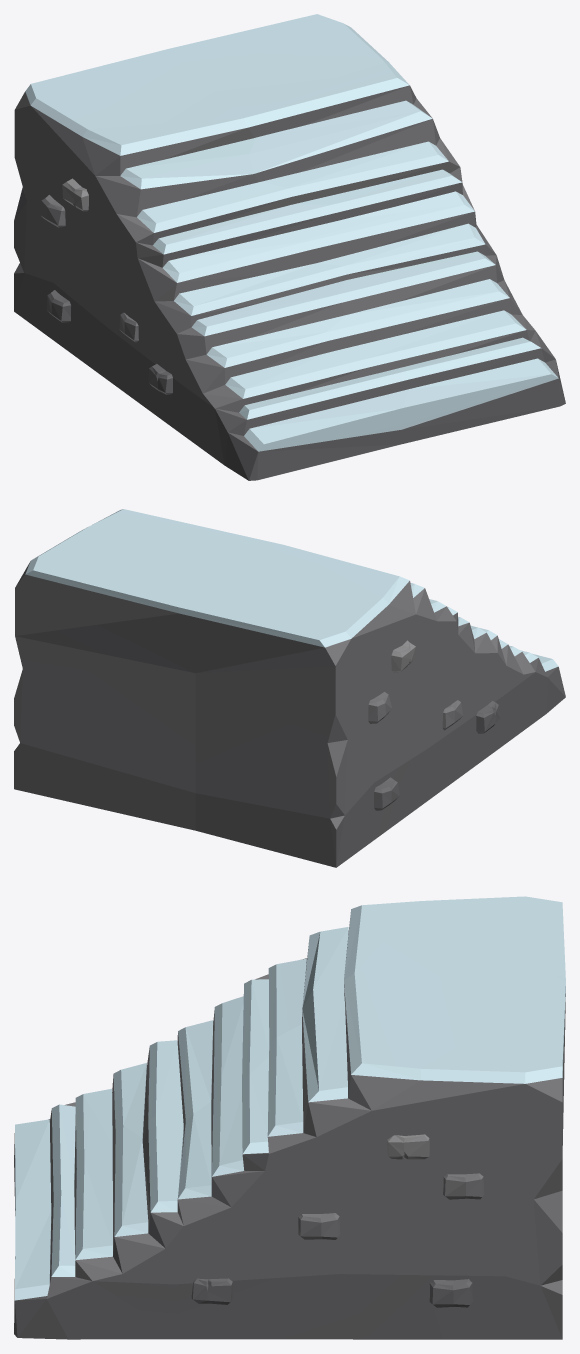
The model's file is SM_Bld_StairsLarge_02_Snow.gltf.
3 renders of one model, top to bottom at view 1: azimuth 30°, elevation 25°; view 2: azimuth 150°, elevation 25°; view 3: azimuth 270°, elevation 25°, orthographic. The views are drawn at different scales.
Parts seen in each view (by area): view 1: SM_Bld_StairsLarge_02_Snow; view 2: SM_Bld_StairsLarge_02_Snow; view 3: SM_Bld_StairsLarge_02_Snow.
Part boxes in pixels (x1,y1,x2,y2): SM_Bld_StairsLarge_02_Snow: (14,14,565,480); SM_Bld_StairsLarge_02_Snow: (14,509,565,867); SM_Bld_StairsLarge_02_Snow: (14,896,565,1339).
Bounding box in the file's own units: 3.23 × 2.04 × 3.88.
1 material, 1 textured.
